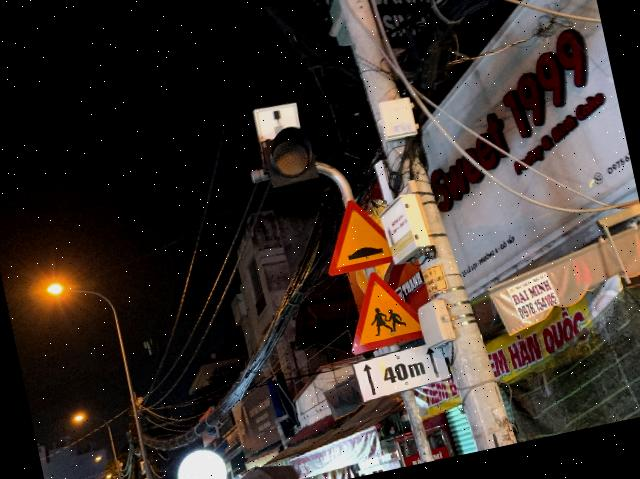duong-co-go-giam-toc: (314, 194, 394, 277)
tre-em-qua-duong: (336, 264, 423, 355)
